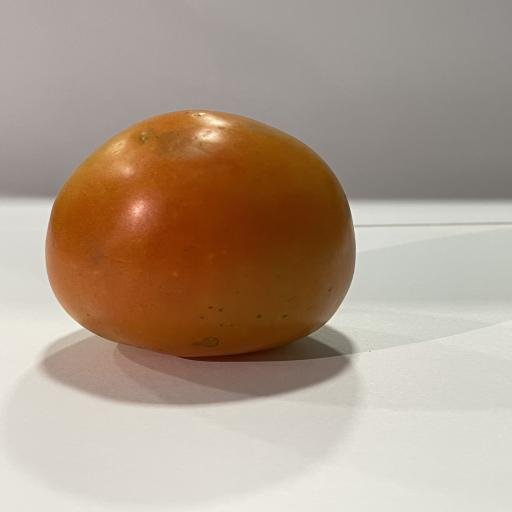unripe: (46, 109, 355, 356)
